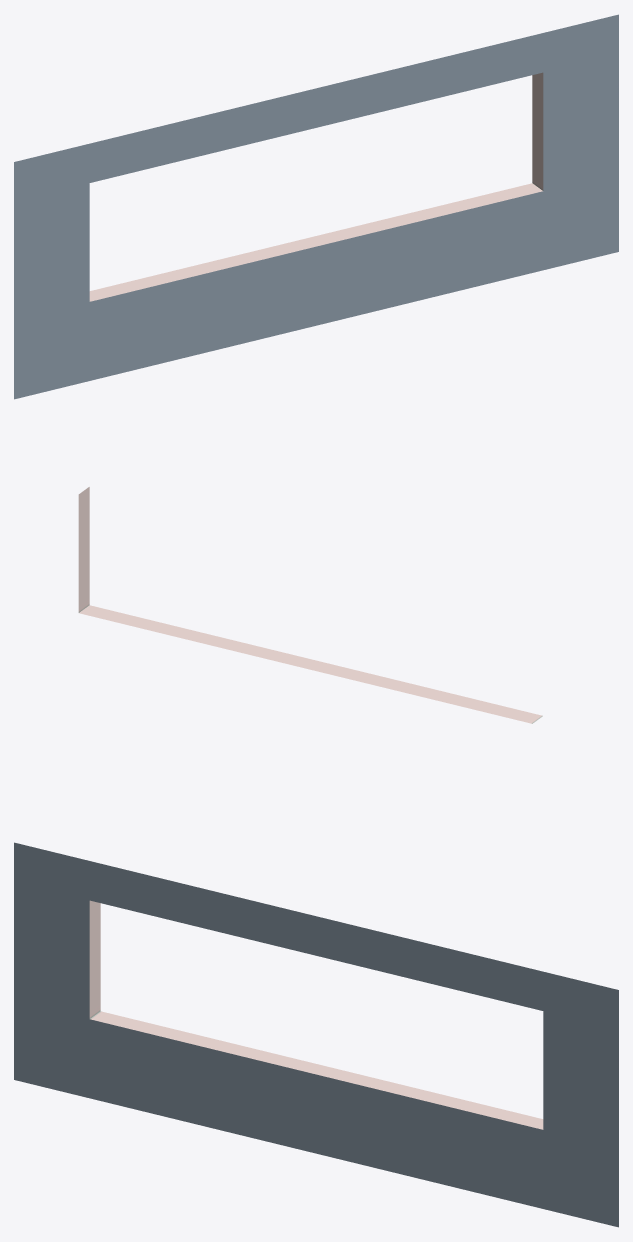
Rendered from Wall4x1_5Win3x0_75Horz.gltf.
The picture shows the model from 3 angles, top to bottom: view 1: azimuth 30°, elevation 25°; view 2: azimuth 150°, elevation 25°; view 3: azimuth 330°, elevation 25°; orthographic projection.
Visible parts, largest first — view 1: Wall4x1_5Win3x0_75HorzShape; view 2: Wall4x1_5Win3x0_75HorzShape; view 3: Wall4x1_5Win3x0_75HorzShape.
Boxes of the visible parts, <box> form: Wall4x1_5Win3x0_75HorzShape: <box>14,14,618,399</box>; Wall4x1_5Win3x0_75HorzShape: <box>78,487,542,723</box>; Wall4x1_5Win3x0_75HorzShape: <box>14,842,618,1227</box>.
Size of the model in its own units: 400 by 150 by 12.5.
Materials: 1 (1 with a texture image).
